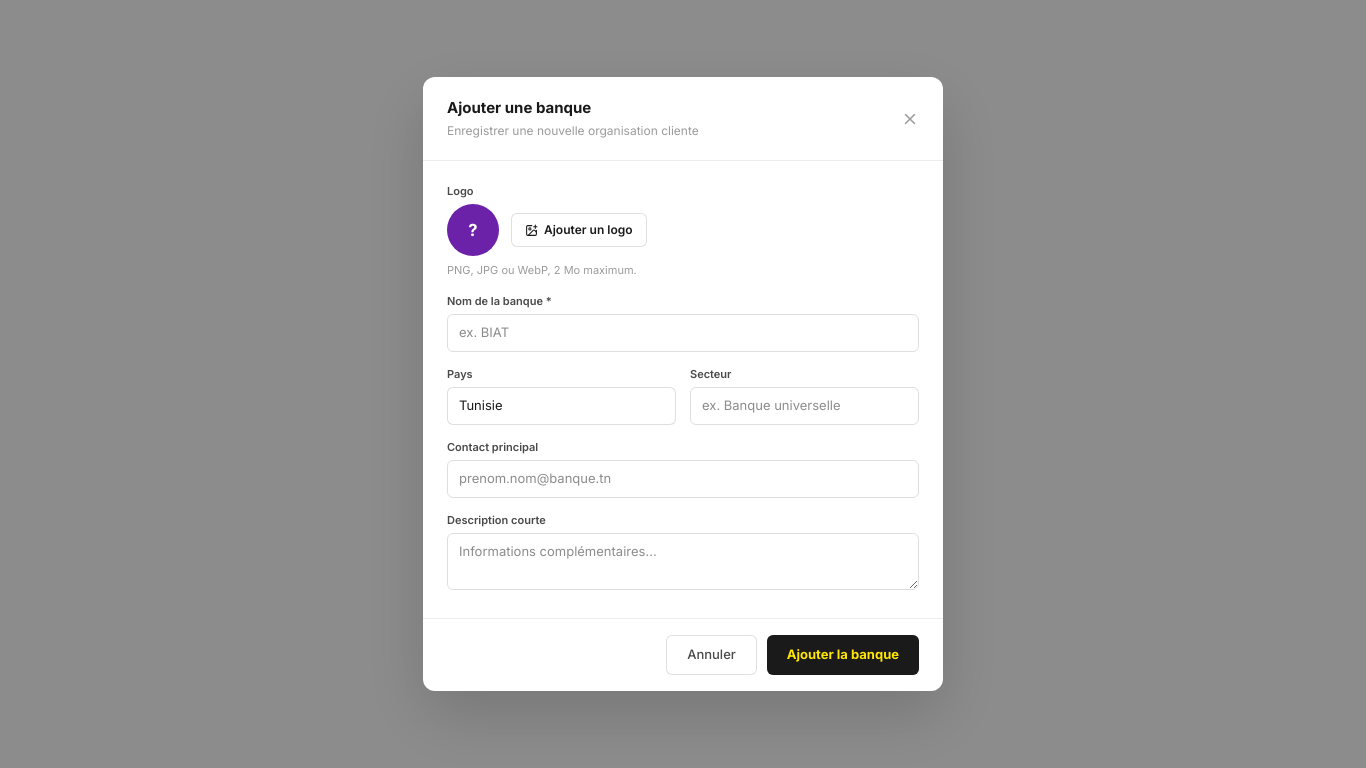
BankModal -- validation à la soumission › bloque un contact au format invalide sans toucher au champ Nom
Type "BIAT" into the field with placeholder "ex. BIAT" at (683, 333), box top-left (447, 314), bottom-right (919, 352)
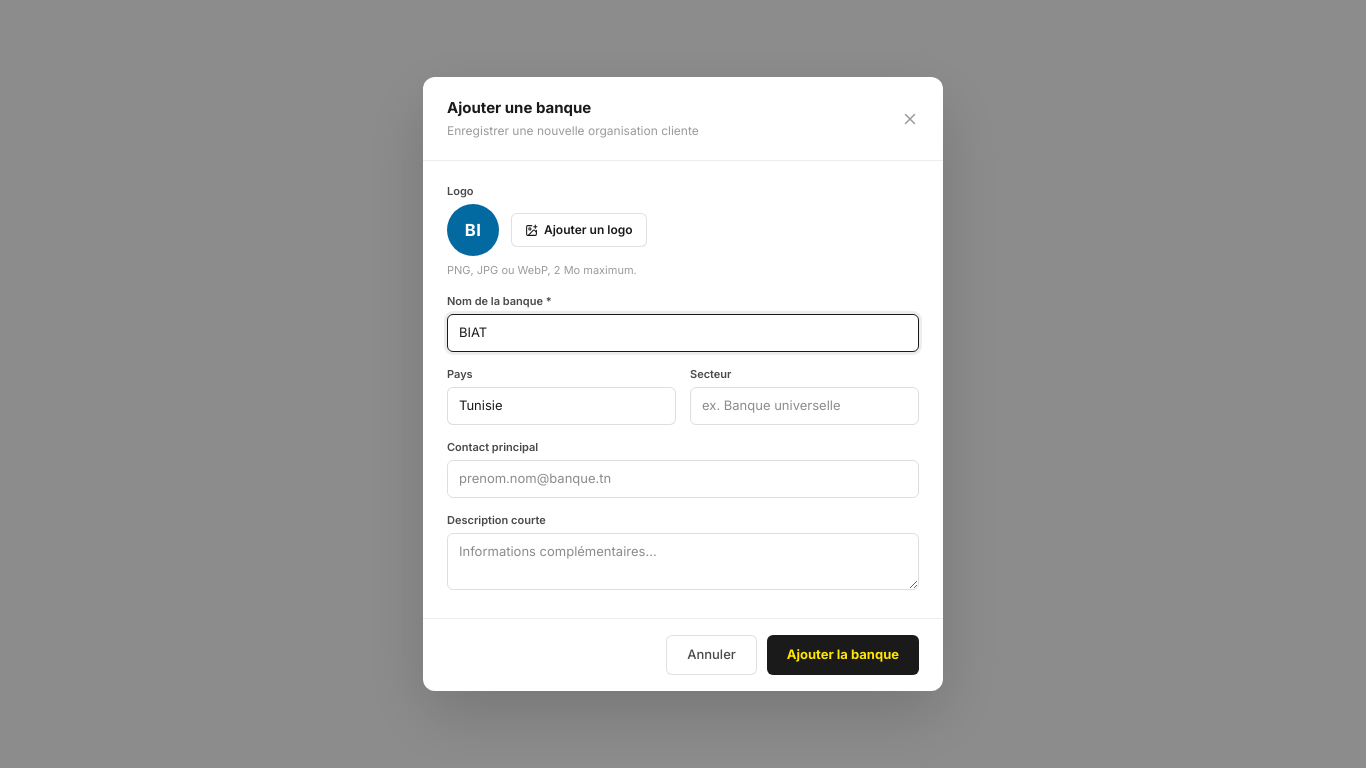
Type "pas-un-email" into the field with placeholder "prenom.nom@banque.tn" at (683, 479), box top-left (447, 460), bottom-right (919, 498)
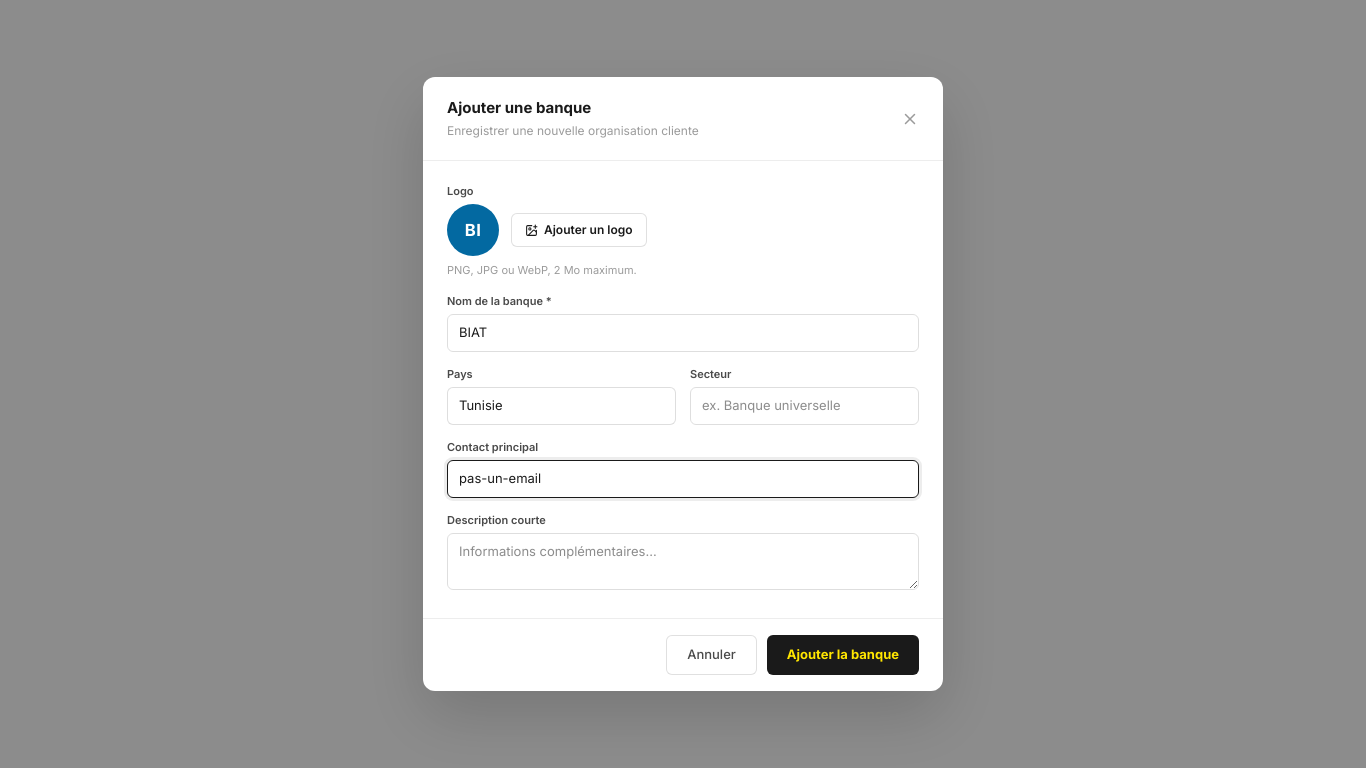
Click the button "Ajouter la banque" at (843, 655), box top-left (767, 635), bottom-right (919, 675)
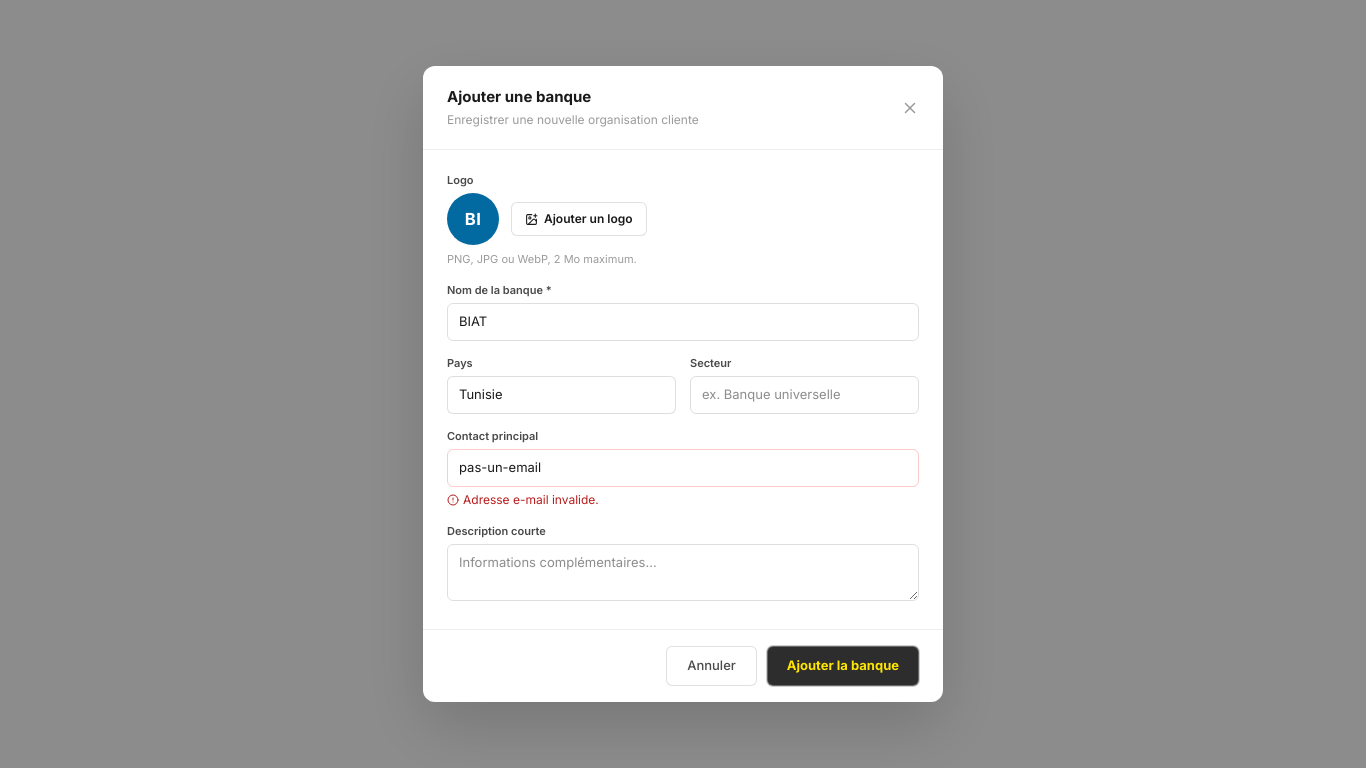
expect the text "Adresse e-mail invalide." is shown: met, box top-left (447, 492), bottom-right (599, 507)
